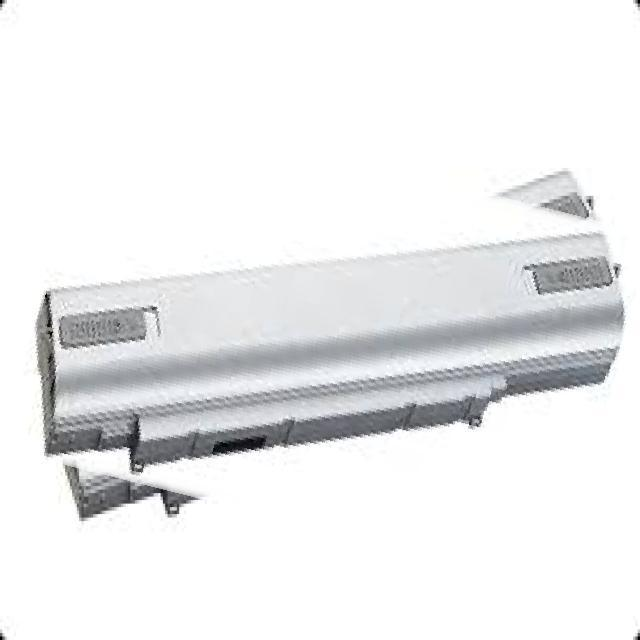Battery: (29, 218, 640, 471)
